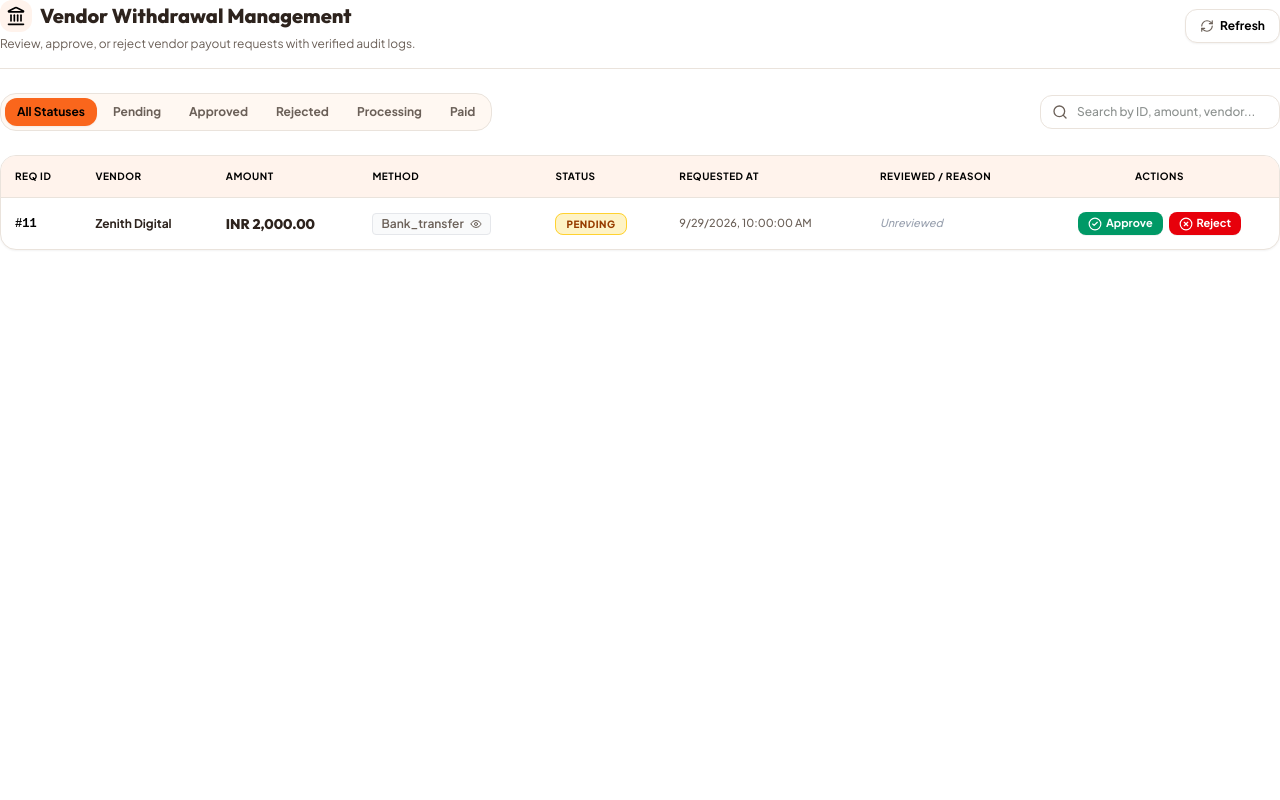
Test: WithdrawalManagementModule › requires reason when rejecting a withdrawal
Expected: the text "Reject" is shown, [1197, 216, 1231, 231]
Step 1. Click the button "Reject" → (1205, 224), box [1169, 212, 1241, 235]
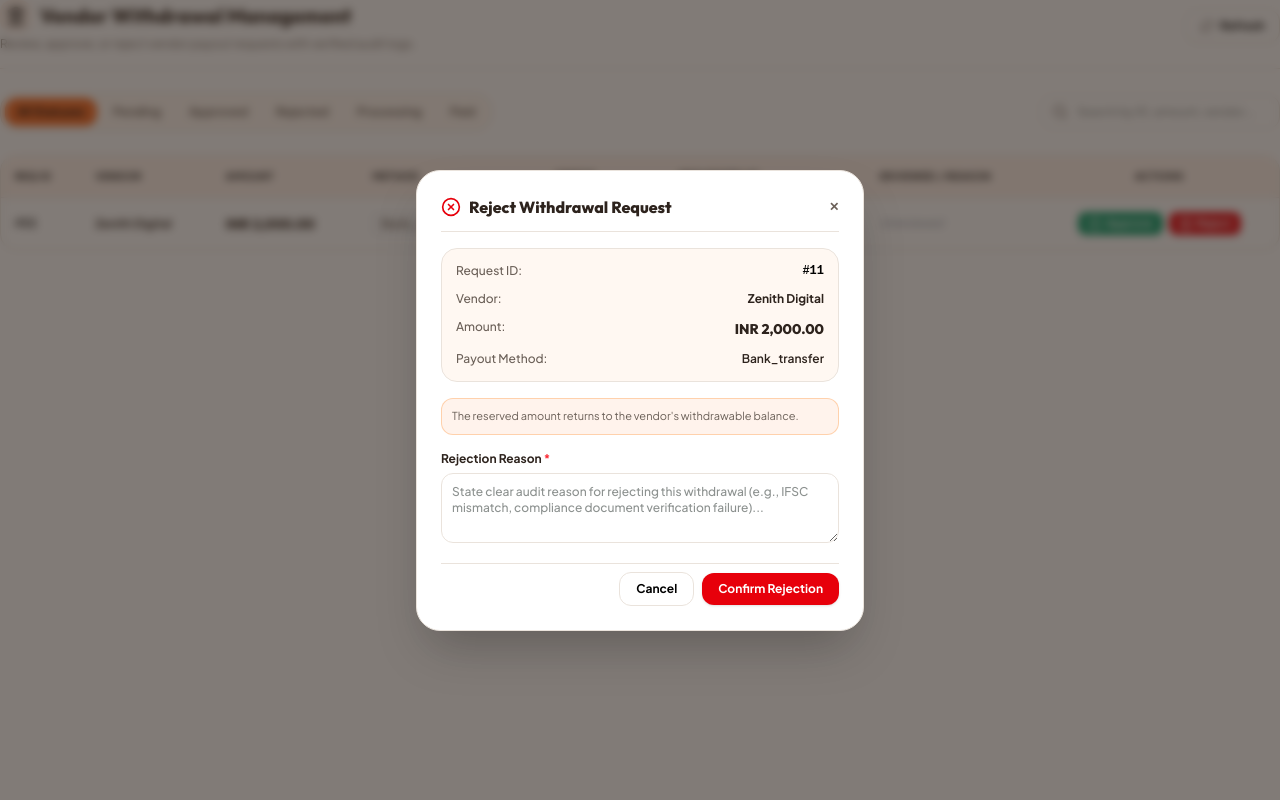
Expected: the heading "Reject Withdrawal Request" is shown, [469, 195, 672, 219]
# Try submitting without entering reason
Step 2. Click the button "Confirm Rejection" → (771, 588), box [702, 572, 839, 604]
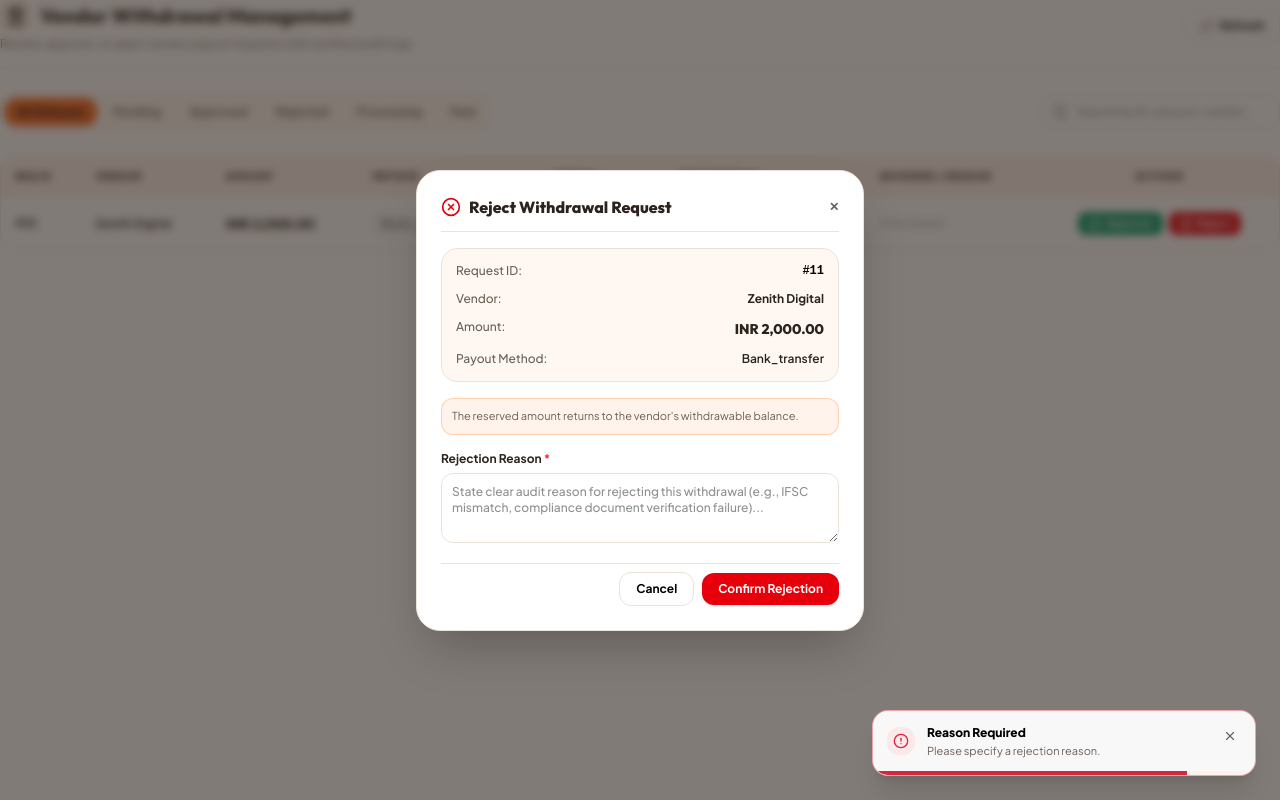
Expected: the text "Please specify a rejection reason." is shown, [927, 743, 1100, 756]
